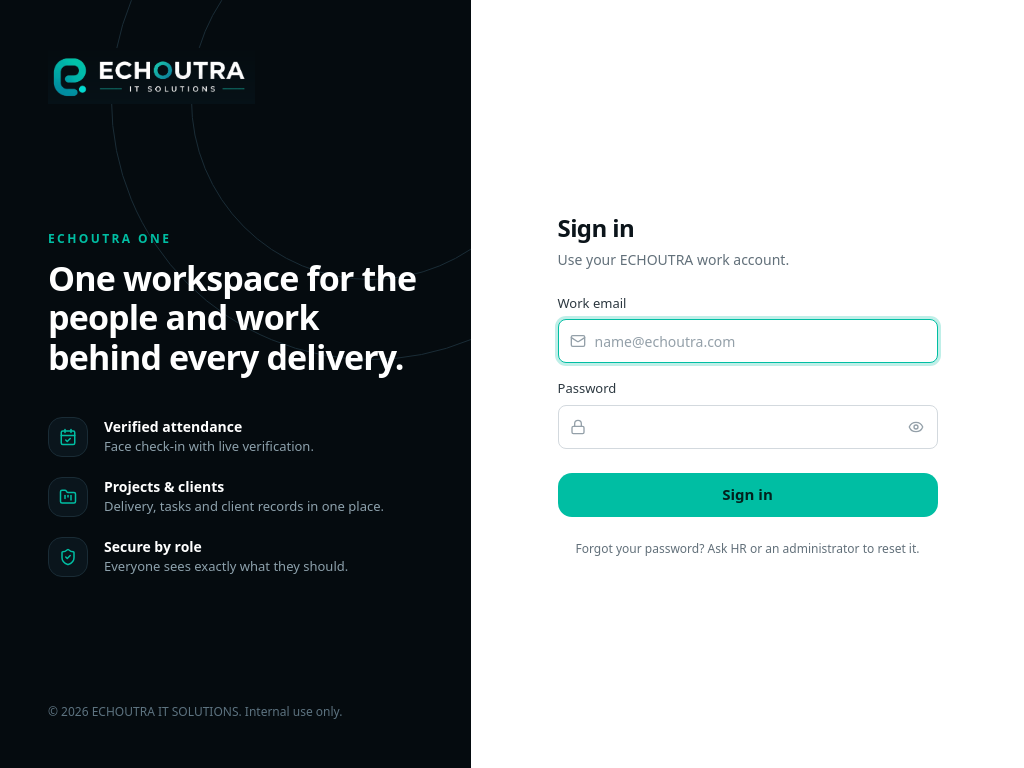
Test: LoginPage › validates empty input before calling the API
Click the button "Sign in" at point(748, 494), box [558, 472, 938, 516]
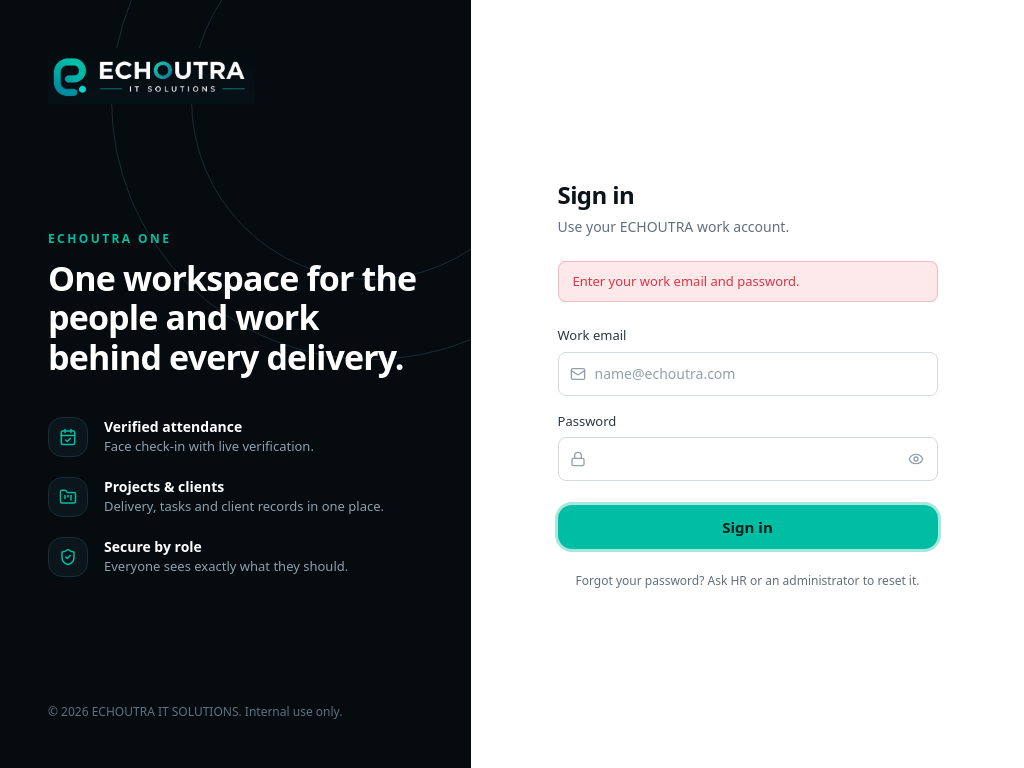
Expected: the message reads "Enter your work email and password.", [572, 272, 800, 290]
